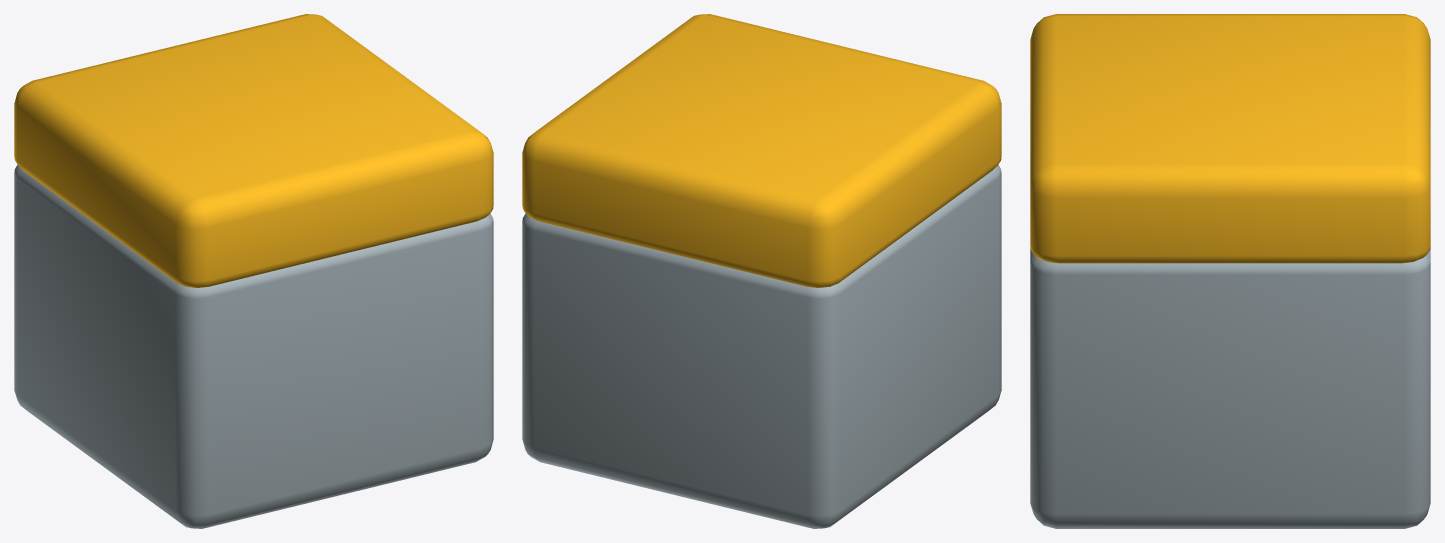
Rendered from tileHigh_teamYellow.glb.
3 renders of one model, left to right at view 1: azimuth 30°, elevation 25°; view 2: azimuth 150°, elevation 25°; view 3: azimuth 270°, elevation 25°, orthographic. The views are drawn at different scales.
Visible parts, largest first — view 1: tileHigh_teamYellow; view 2: tileHigh_teamYellow; view 3: tileHigh_teamYellow.
Part boxes in pixels (bbox=[...]): tileHigh_teamYellow: bbox=[14, 14, 493, 528]; tileHigh_teamYellow: bbox=[522, 14, 1001, 528]; tileHigh_teamYellow: bbox=[1030, 14, 1430, 528].
Bounding box in the file's own units: 0.6 × 0.6 × 0.6.
